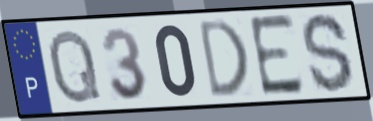0: (153, 22, 199, 100)
3: (99, 24, 150, 103)
D: (196, 16, 251, 101)
E: (246, 11, 307, 99)
Q: (47, 26, 104, 107)
S: (299, 11, 356, 95)
